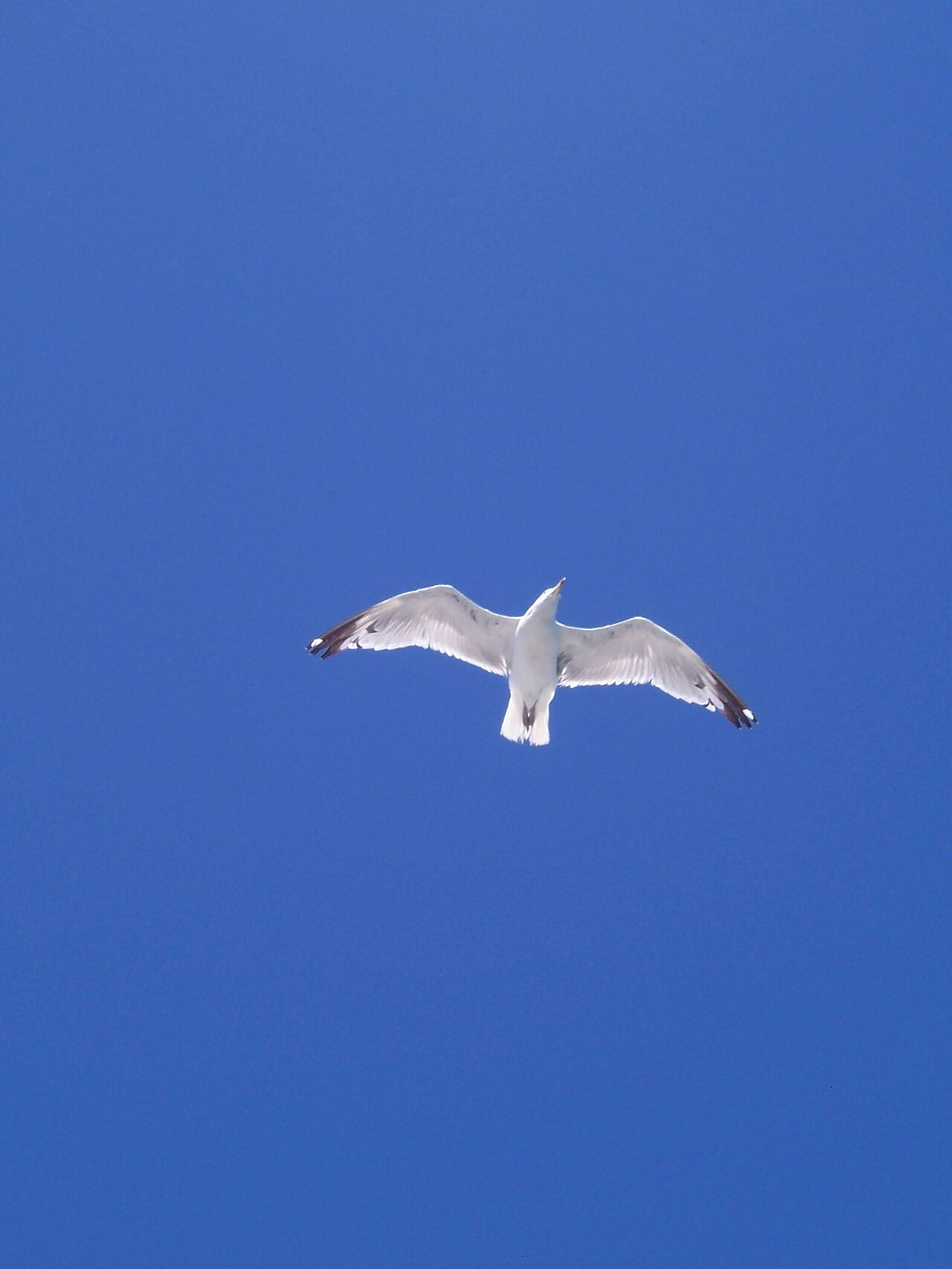bird: (305, 575, 760, 746)
